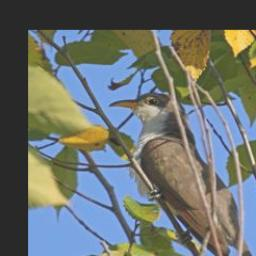Cuckoo: (76, 92, 241, 256)
